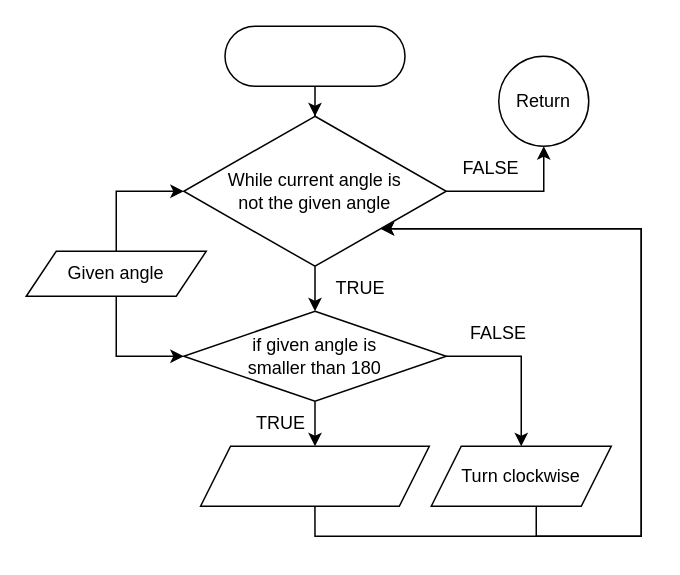
Image size: 680x575. Some labels were removed from this diagram. The shapes that lost their labels are listed below. From the top down, each one's centre as x and y in pixels, then its label:
At (314,55): "Turn to given angle".
At (314,475): "Turn counterclockwise".
